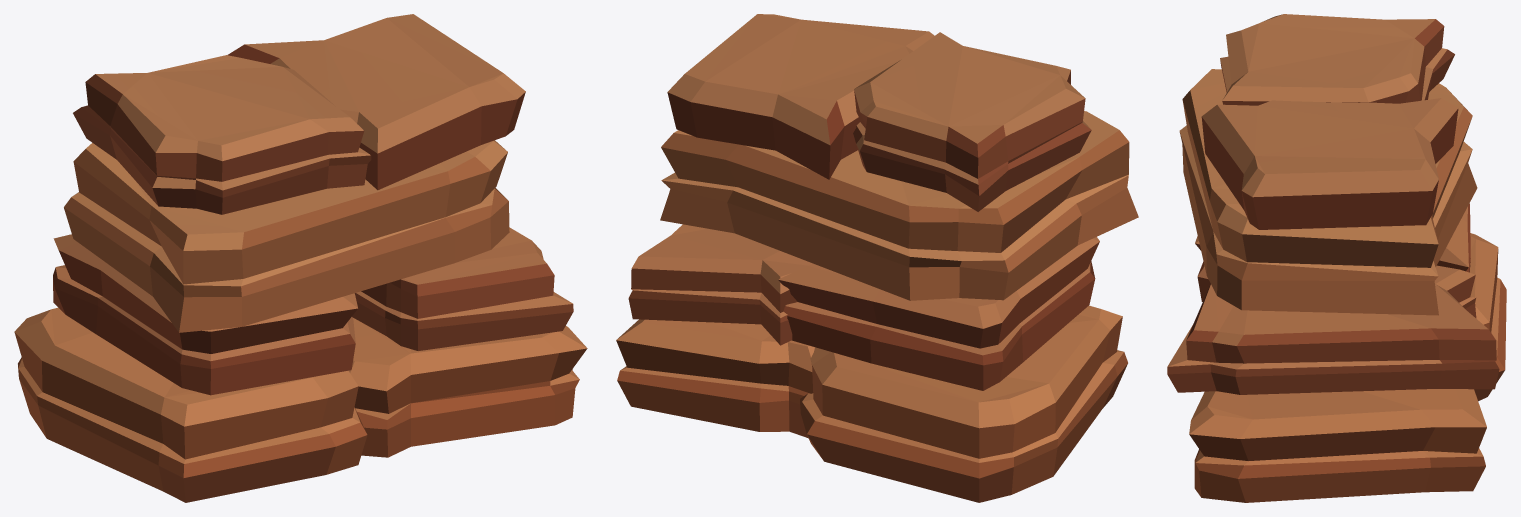
The model's file is sandstone_a.glb.
3 views of the same model, side by side, from view 1: azimuth 30°, elevation 25°; view 2: azimuth 150°, elevation 25°; view 3: azimuth 270°, elevation 25° (orthographic). The views are drawn at different scales.
Parts seen in each view (by area): view 1: sandstone_a; view 2: sandstone_a; view 3: sandstone_a.
Part boxes in pixels (bbox=[...]): sandstone_a: bbox=[14, 14, 587, 502]; sandstone_a: bbox=[616, 14, 1138, 502]; sandstone_a: bbox=[1167, 14, 1506, 502].
Size of the model in its own units: 13.36 by 9.8 by 9.45.
